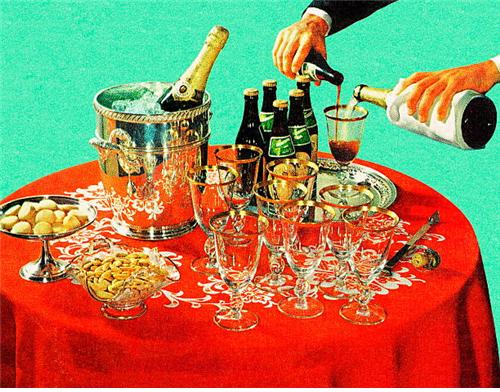alcohol: (353, 77, 496, 151), (158, 26, 230, 112), (323, 105, 367, 196), (235, 87, 267, 192), (294, 75, 318, 164), (265, 100, 298, 163), (293, 50, 344, 87), (288, 90, 313, 155), (260, 79, 278, 144)
